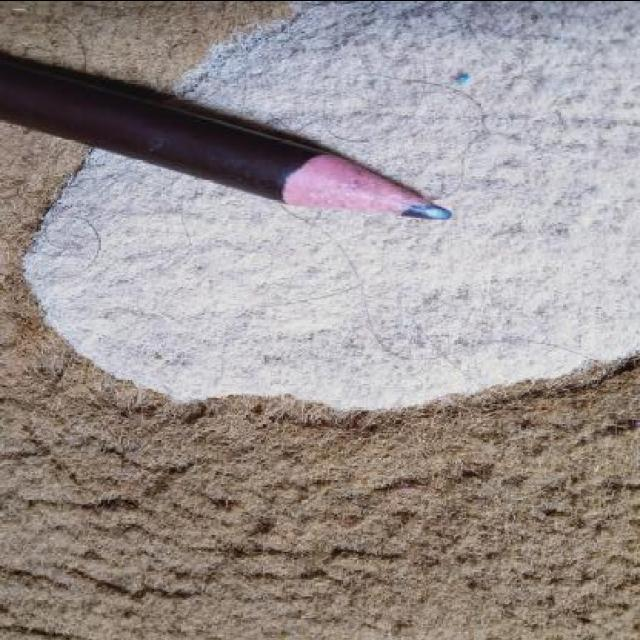pencil: (262, 136, 468, 230)
